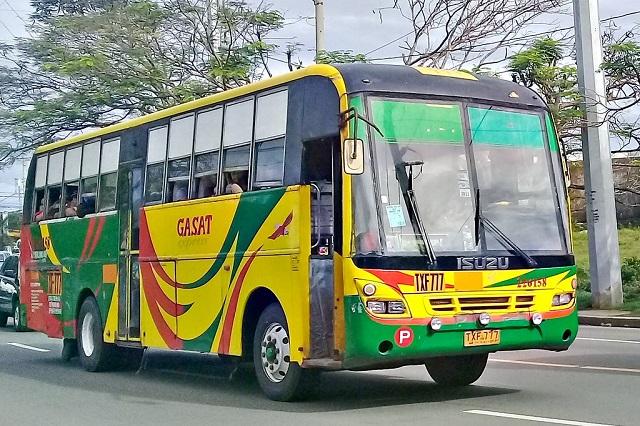bus: (21, 63, 578, 399)
pole: (574, 1, 625, 311), (314, 1, 324, 62)
tree branches: (24, 4, 250, 85), (414, 2, 543, 28)
